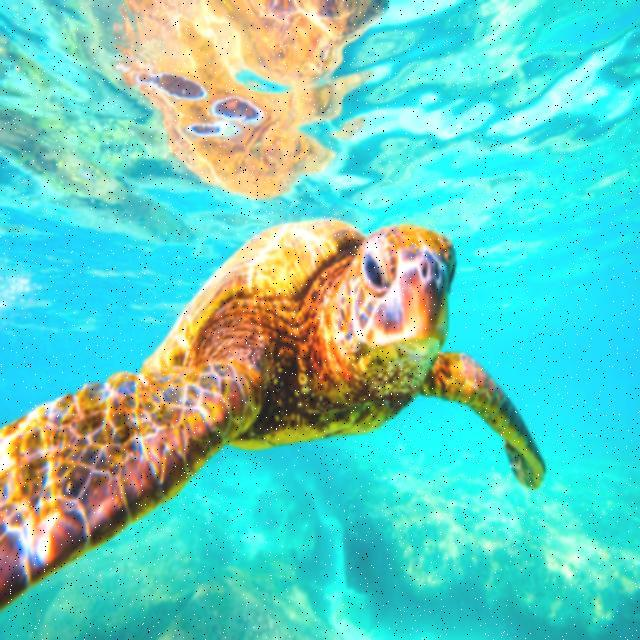tortoise: (2, 219, 546, 579)
